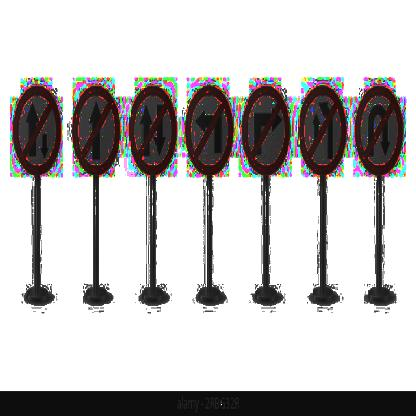No U-turn: (354, 82, 403, 178)
